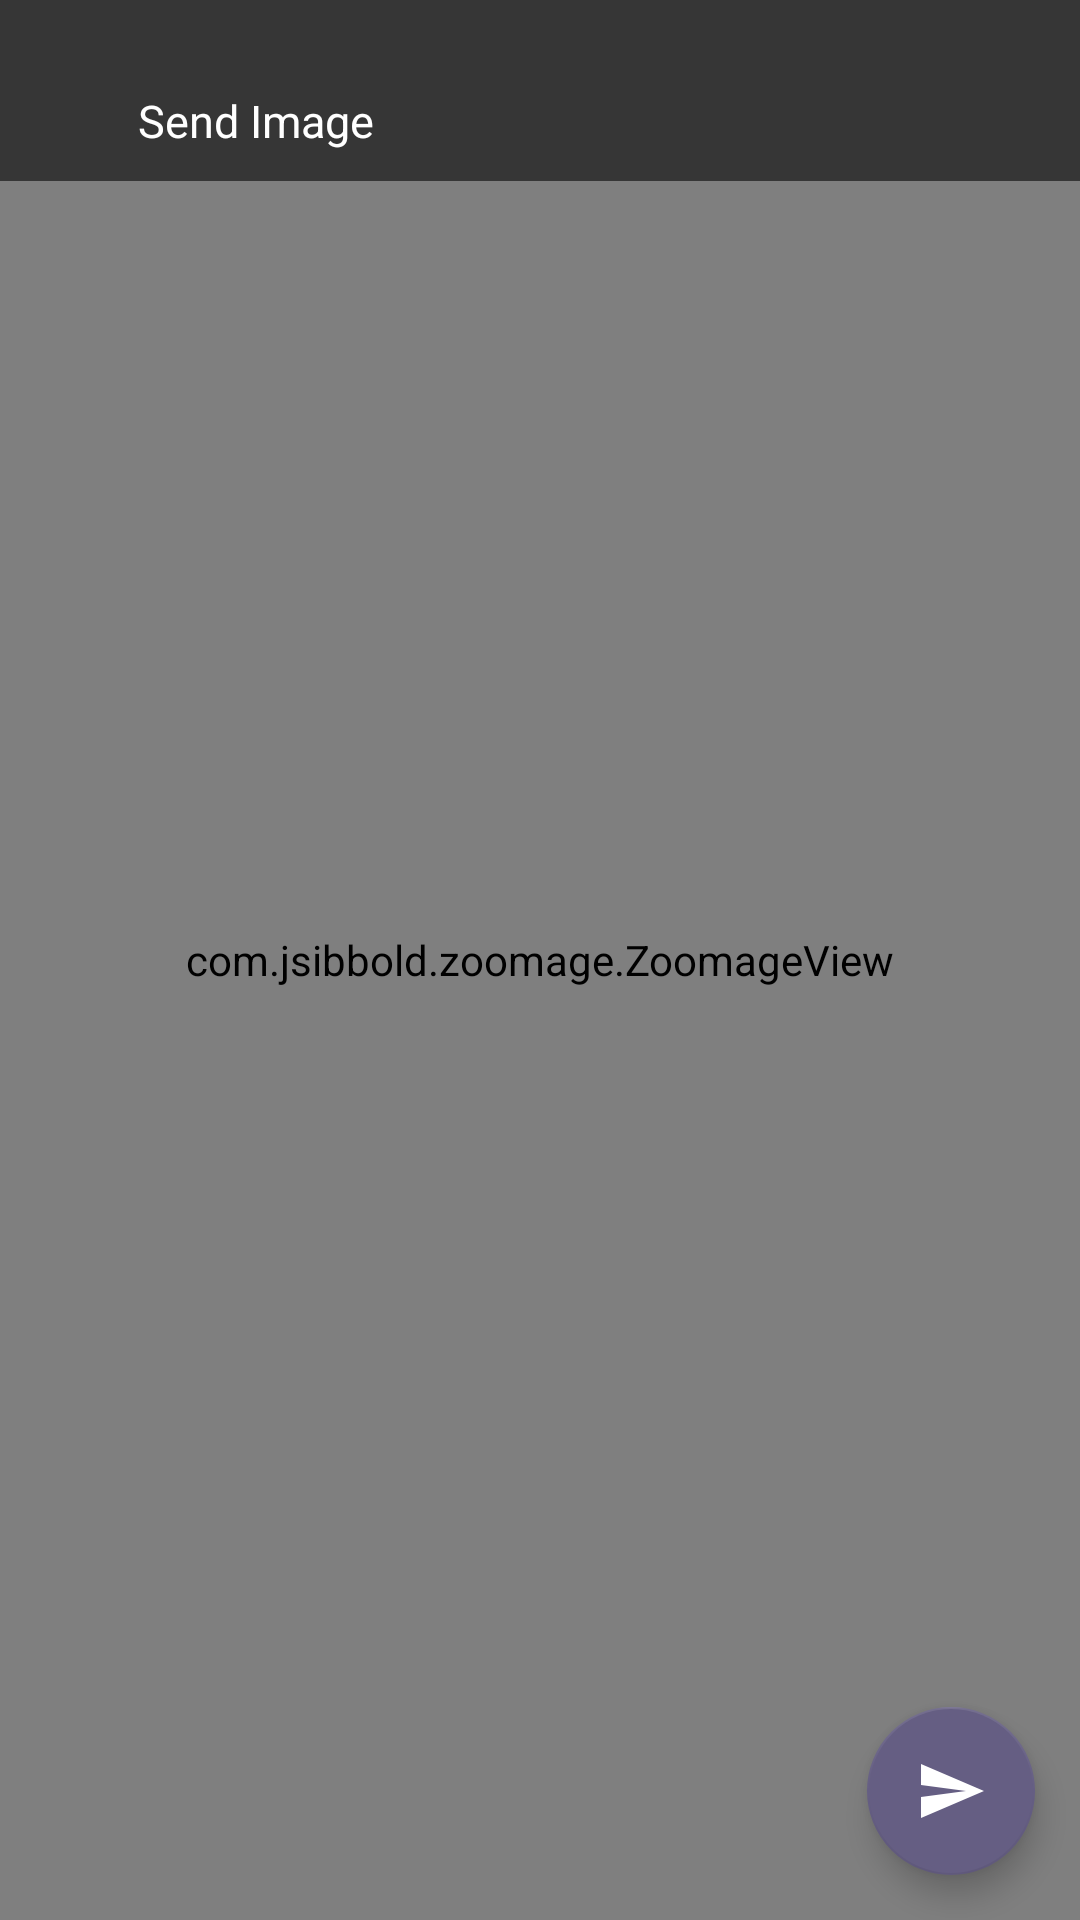

Icons on this 1080x1920 Android screen, each with its box as [x1=x1, y1=y1, x2=x2, y2=y2]:
send: [x1=867, y1=1707, x2=1035, y2=1875]
